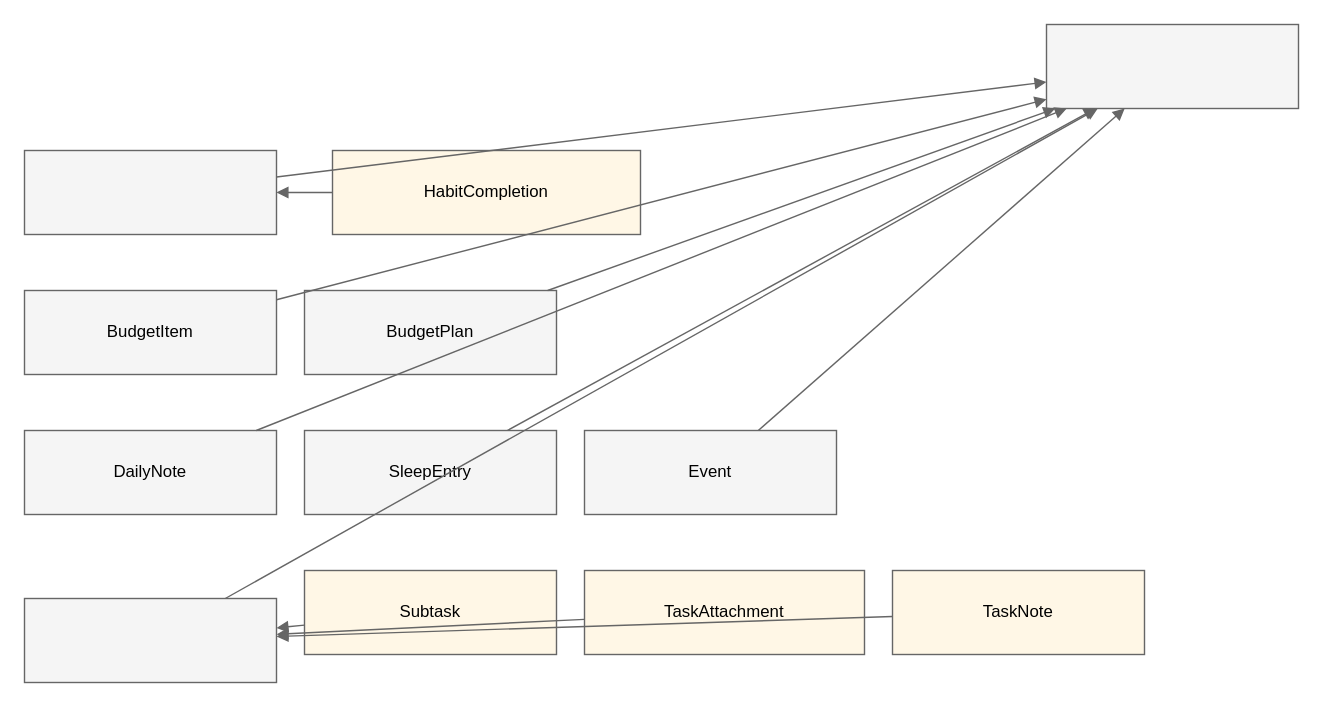
This 1323x707 diagram has some shape labels left out. The centre of each missing label's shape, as x and y in pixels:
"Habit" belongs at (x=149, y=191).
"Task" belongs at (x=149, y=639).
"User" belongs at (x=1171, y=65).
